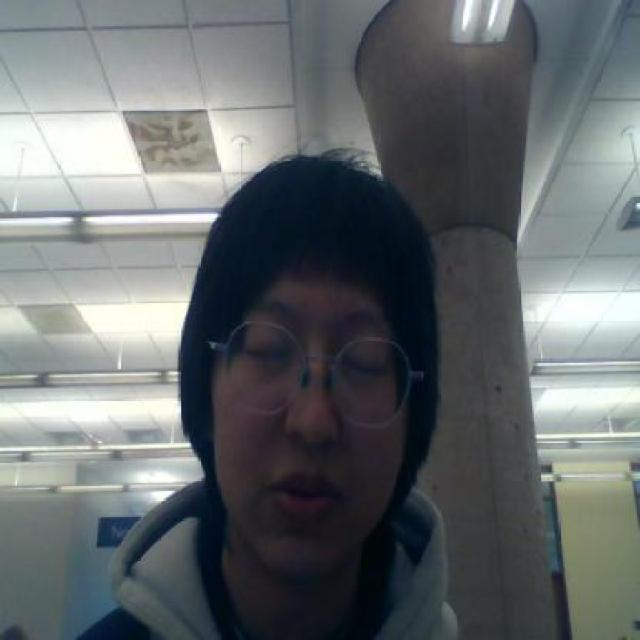sleepy: (220, 316, 406, 548)
